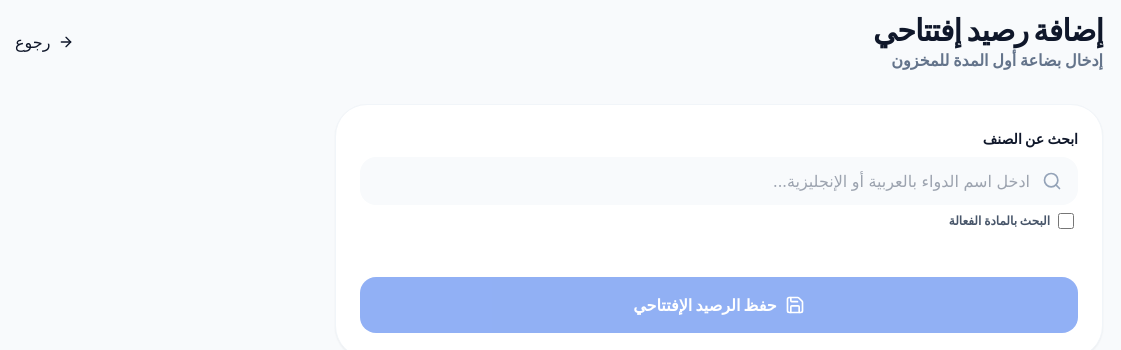
Test: opening-balance drug search › searches the master catalog without depending on POS access
The image size is (1121, 350).
Type "Pana" into the field with placeholder "ادخل اسم الدواء بالعربية أو الإنجليزية..." at (719, 181), box [360,157,1078,205]
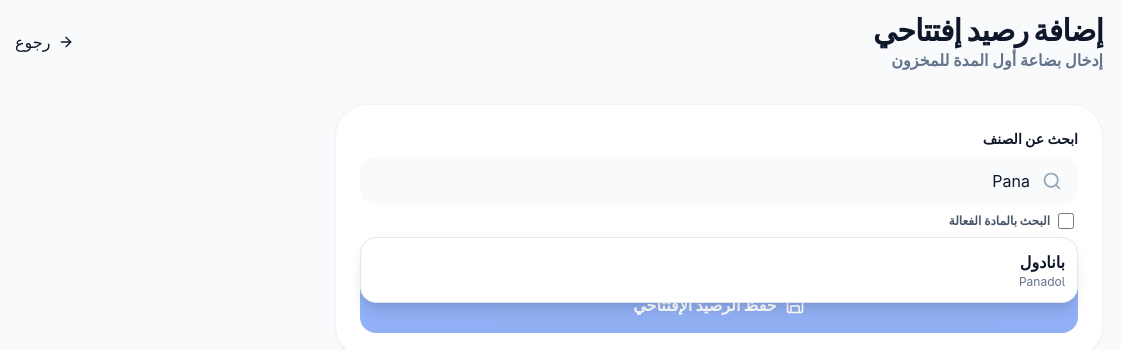
Now the text "Panadol" is shown, box [1019,274,1065,289]
